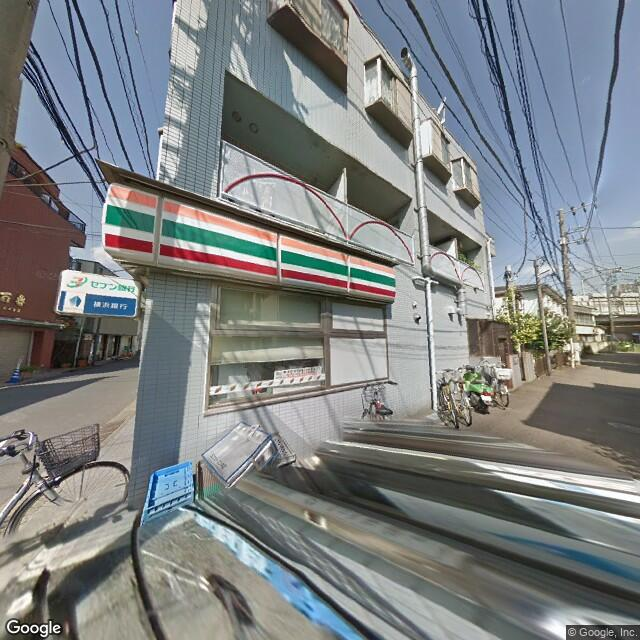7-eleven: (97, 180, 397, 302)
